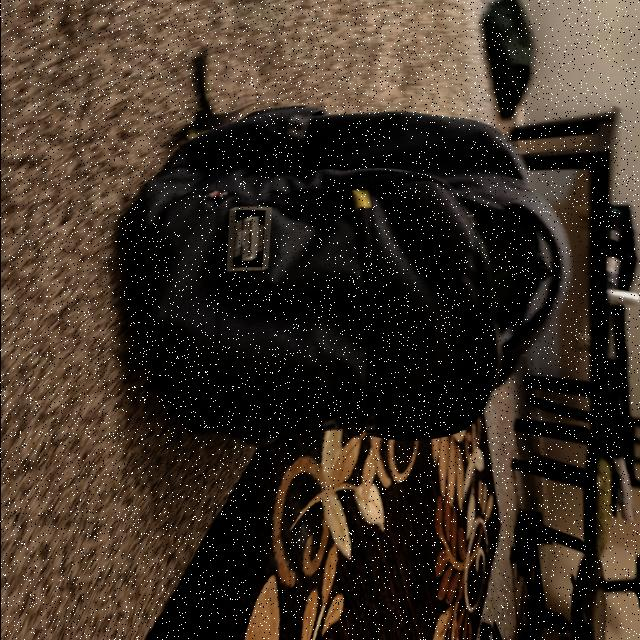bag: (128, 106, 566, 424)
